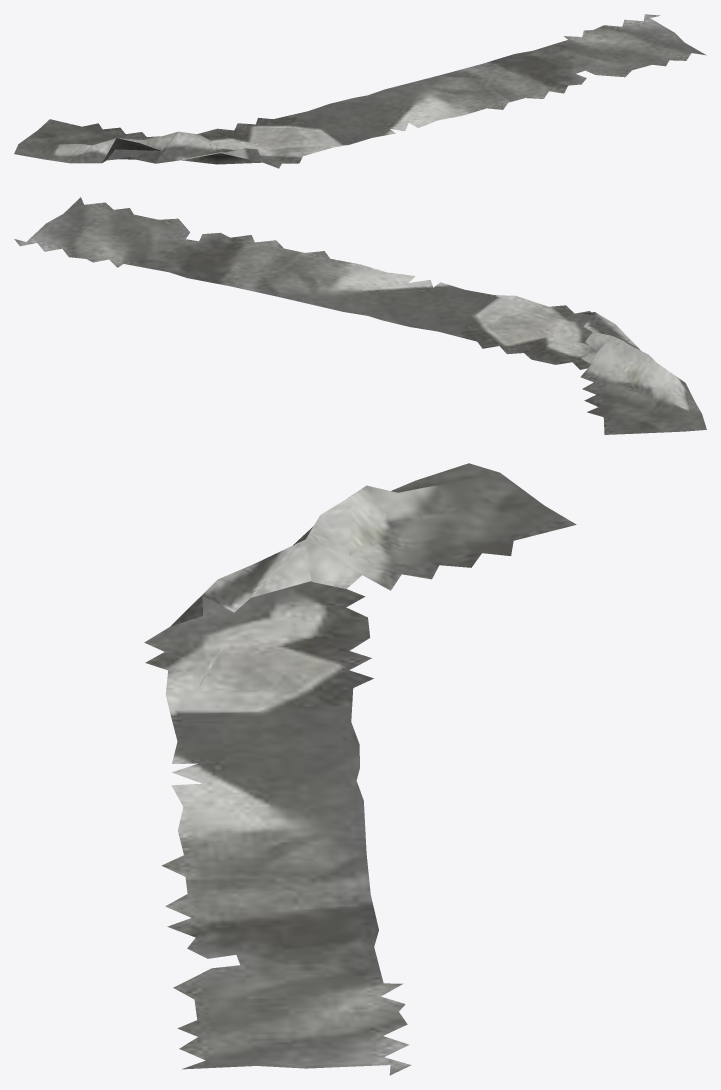
File: rag_sheet_strip_2_lod1_web.glb
The picture shows the model from 3 angles, top to bottom: view 1: azimuth 30°, elevation 25°; view 2: azimuth 150°, elevation 25°; view 3: azimuth 270°, elevation 25°; orthographic projection. The views are drawn at different scales.
Parts seen in each view (by area): view 1: rag_sheet_strip_2_Cloth; view 2: rag_sheet_strip_2_Cloth; view 3: rag_sheet_strip_2_Cloth.
Part boxes in pixels (x1=…): rag_sheet_strip_2_Cloth: x1=14, y1=14, x2=706, y2=168; rag_sheet_strip_2_Cloth: x1=14, y1=197, x2=706, y2=434; rag_sheet_strip_2_Cloth: x1=144, y1=463, x2=576, y2=1075.
Bounding box in the file's own units: 0.9036 × 0.0319 × 0.2699.
1 material, 1 textured.
